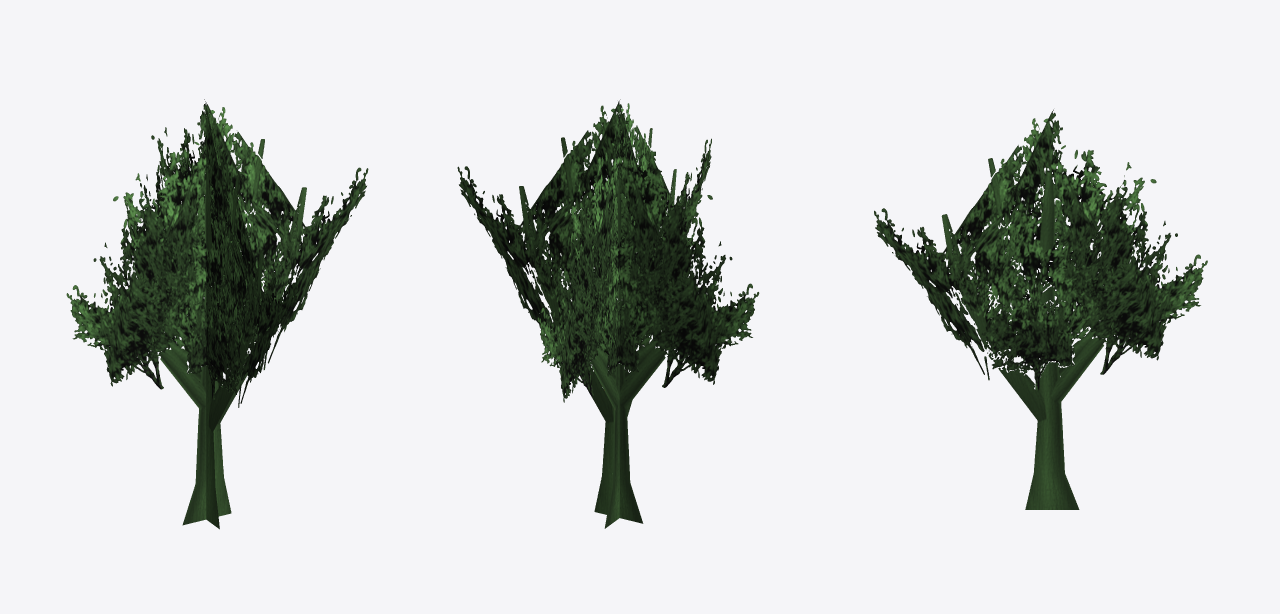
The model's file is oak-far.glb.
The picture shows the model from 3 angles, left to right: view 1: azimuth 30°, elevation 25°; view 2: azimuth 150°, elevation 25°; view 3: azimuth 270°, elevation 25°; orthographic projection. The views are drawn at different scales.
Visible parts, largest first — view 1: tree_b.png__; view 2: tree_b.png__; view 3: tree_b.png__.
Part boxes in pixels (bbox=[...]): tree_b.png__: bbox=[66, 99, 368, 529]; tree_b.png__: bbox=[457, 99, 759, 528]; tree_b.png__: bbox=[874, 109, 1207, 509].
Bounding box in the file's own units: 13.94 × 14.69 × 13.94.
1 material, 1 textured.
